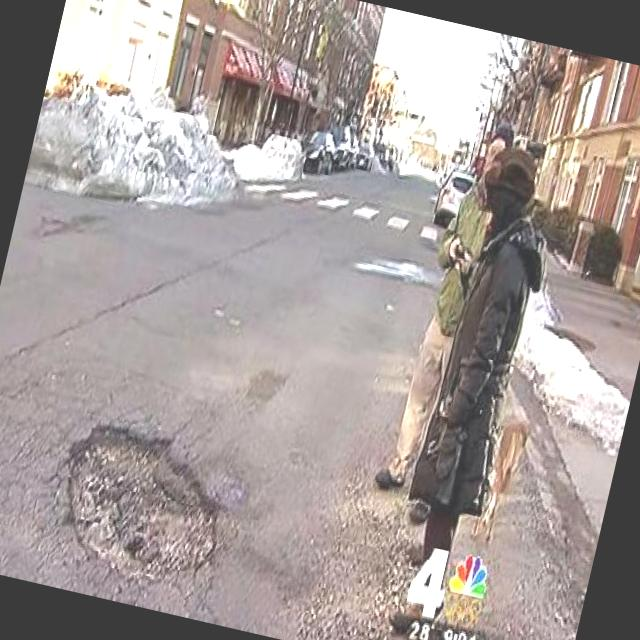pothole: (41, 406, 240, 592)
